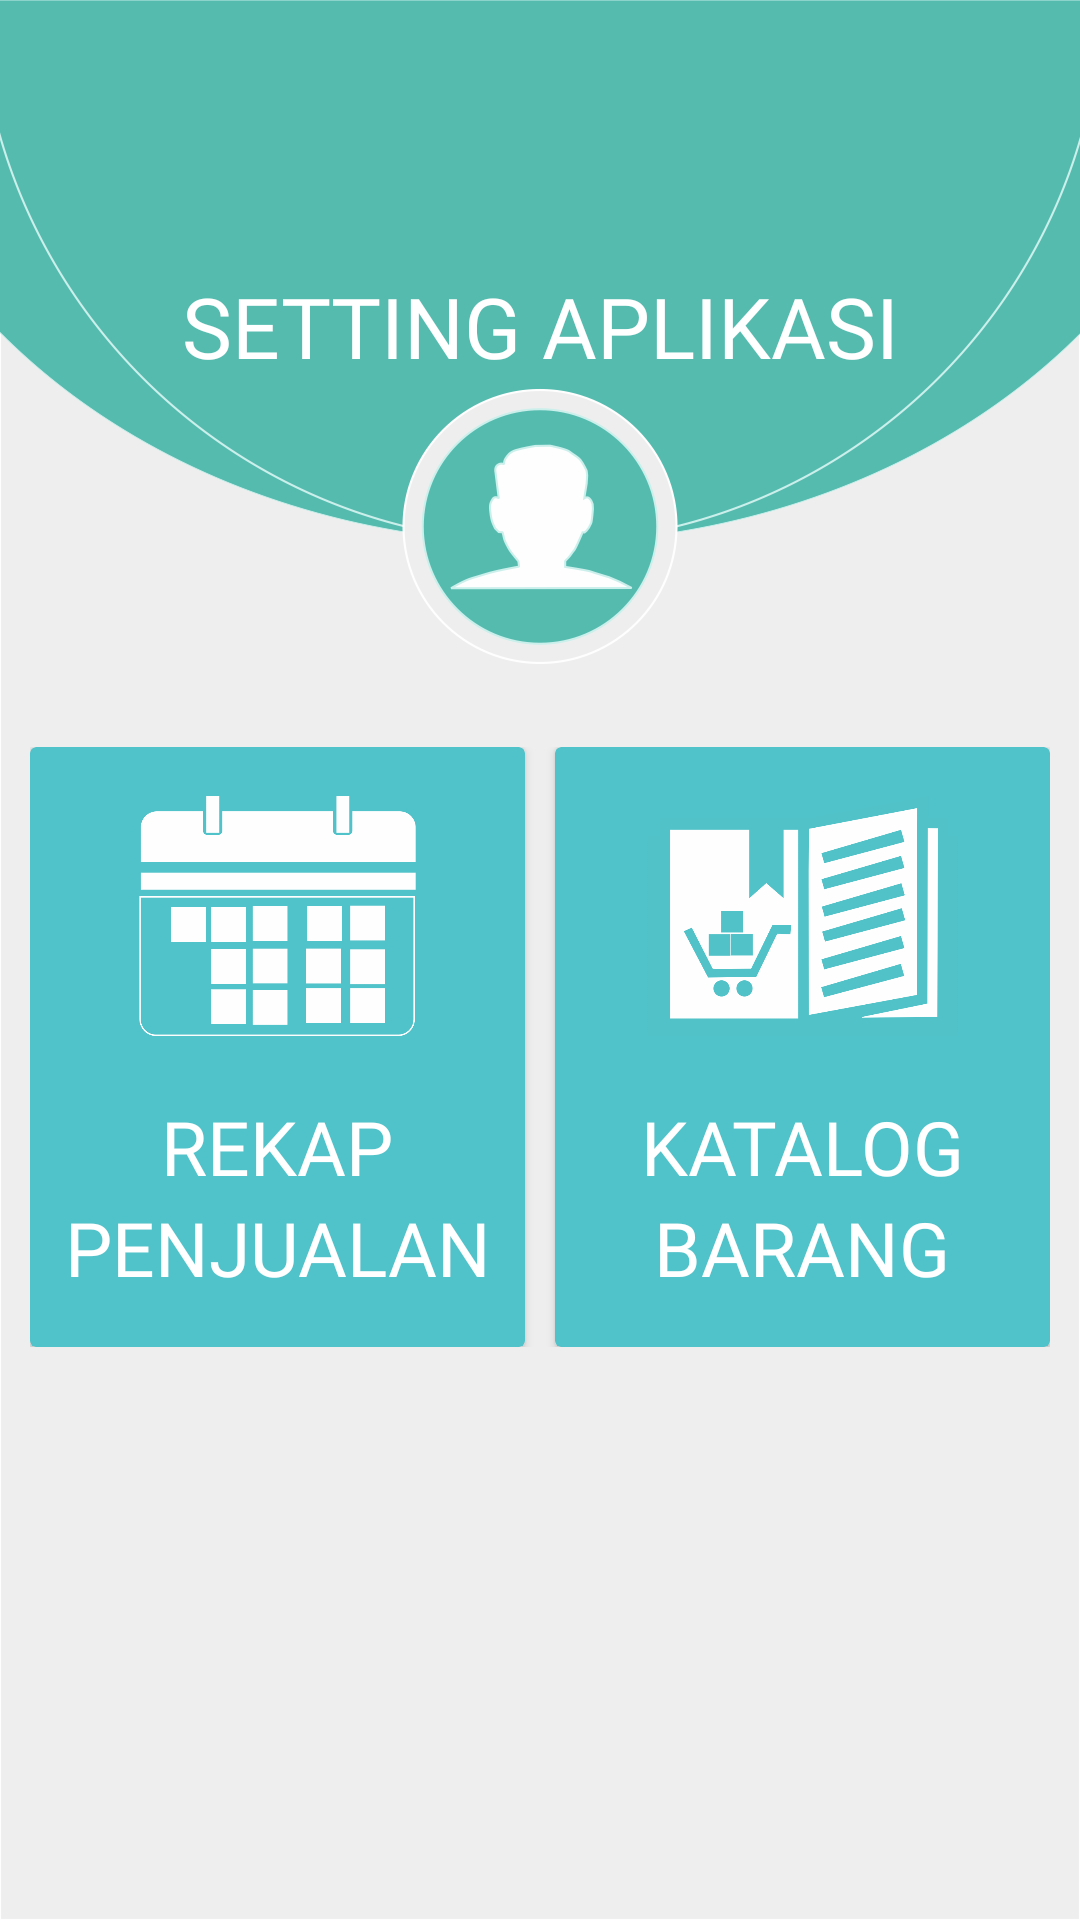

Icon bounding boxes for this 1080 x 1920 phone screenshot, format bbox(x1, y1, x2, y2):
calender: bbox(139, 796, 416, 1036)
